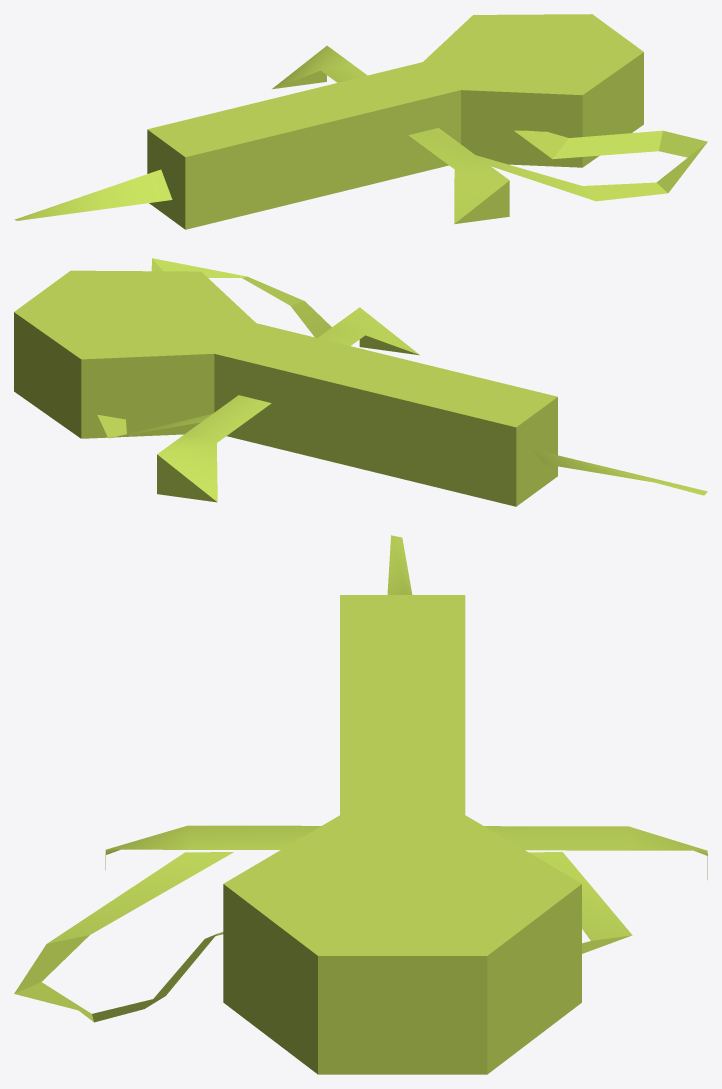
File: stimpak.obj
The picture shows the model from 3 angles, top to bottom: view 1: azimuth 30°, elevation 25°; view 2: azimuth 150°, elevation 25°; view 3: azimuth 270°, elevation 25°; orthographic projection. The views are drawn at different scales.
Parts seen in each view (by area): view 1: Box01; view 2: Box01; view 3: Box01.
Part boxes in pixels (left/top/right/bottom): Box01: left=14, top=14, right=707, bottom=229; Box01: left=14, top=258, right=707, bottom=506; Box01: left=14, top=535, right=707, bottom=1074.
Size of the model in its own units: 26.29 by 3.01 by 15.97.
